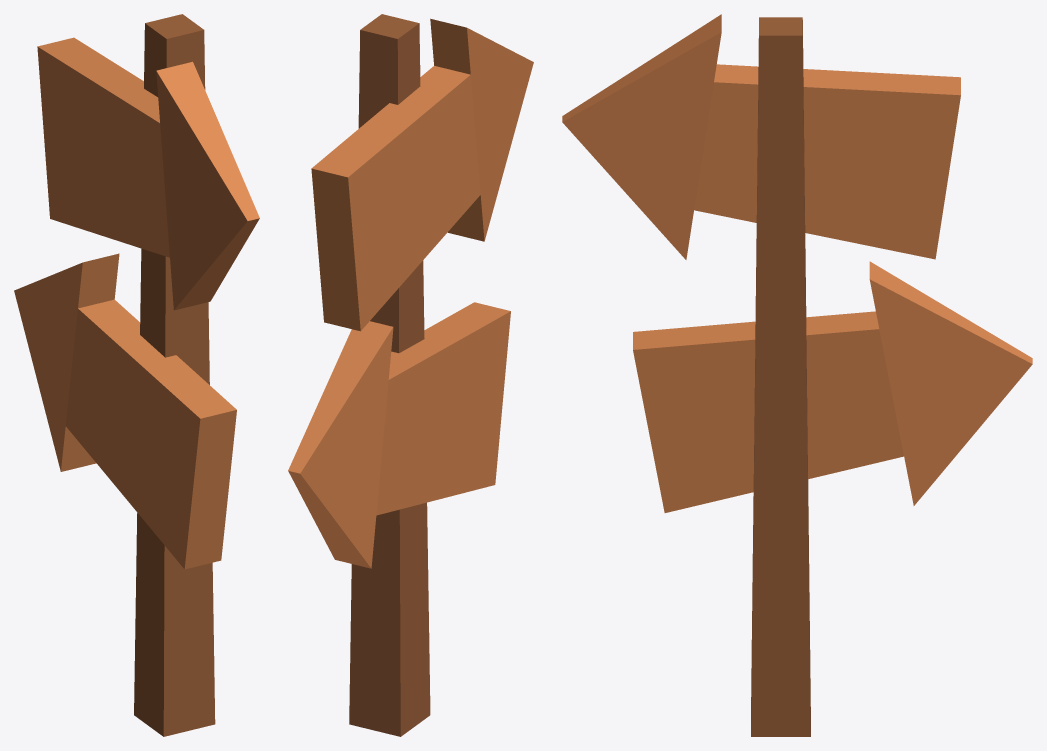
File: arrows.dae
3 renders of one model, left to right at view 1: azimuth 30°, elevation 25°; view 2: azimuth 150°, elevation 25°; view 3: azimuth 270°, elevation 25°, orthographic.
Parts seen in each view (by area): view 1: arrowRight, arrowLeft, arrows; view 2: arrowLeft, arrowRight, arrows; view 3: arrowLeft, arrowRight, arrows.
Boxes of the visible parts, x1,y1,x2,y2 form: arrowRight: [14, 253, 236, 569]; arrowLeft: [37, 37, 259, 310]; arrows: [134, 14, 215, 736]; arrowLeft: [311, 18, 533, 331]; arrowRight: [288, 302, 510, 568]; arrows: [349, 14, 430, 736]; arrowLeft: [562, 14, 960, 259]; arrowRight: [633, 261, 1032, 512]; arrows: [751, 17, 810, 736].
Size of the model in its own units: 0.0998 by 0.9 by 0.55.
